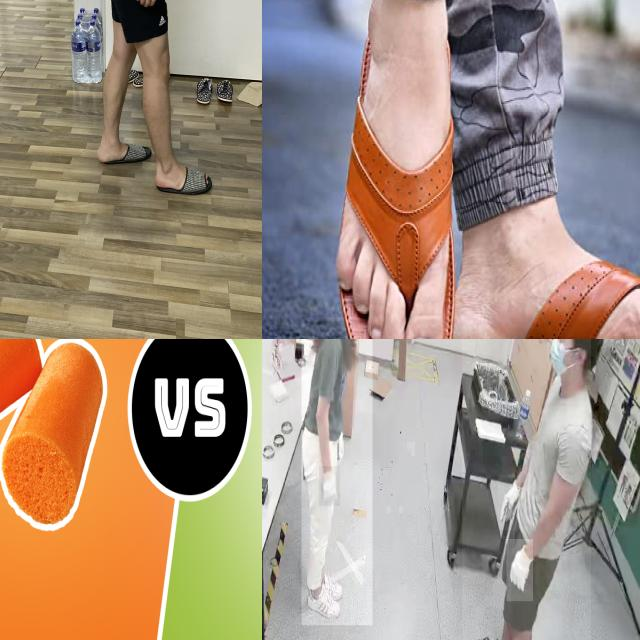Sandals: (337, 0, 454, 339), (459, 205, 640, 339), (154, 147, 213, 195), (97, 131, 152, 165)
face_mask: (547, 339, 572, 381)
hand_glove: (506, 539, 534, 602), (498, 475, 520, 531), (319, 466, 341, 507)
person: (462, 339, 591, 640), (301, 339, 372, 626)
shoes: (306, 582, 342, 622), (314, 571, 344, 600)
